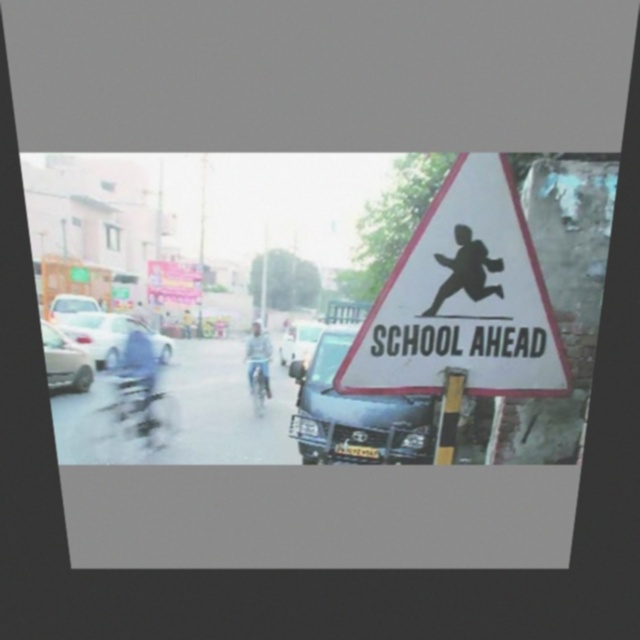School_Ahead: (357, 179, 581, 376)
